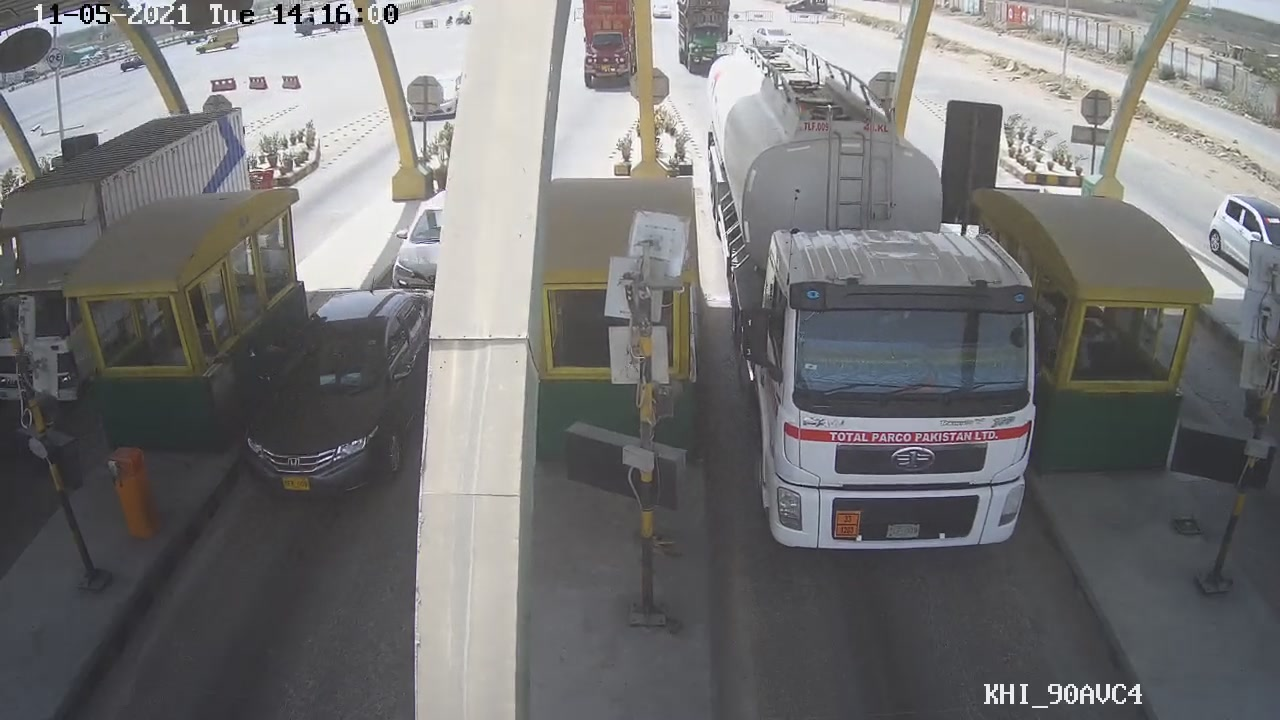F6: (711, 65, 1066, 557)
